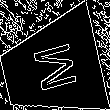M_W: (25, 39, 78, 96)
